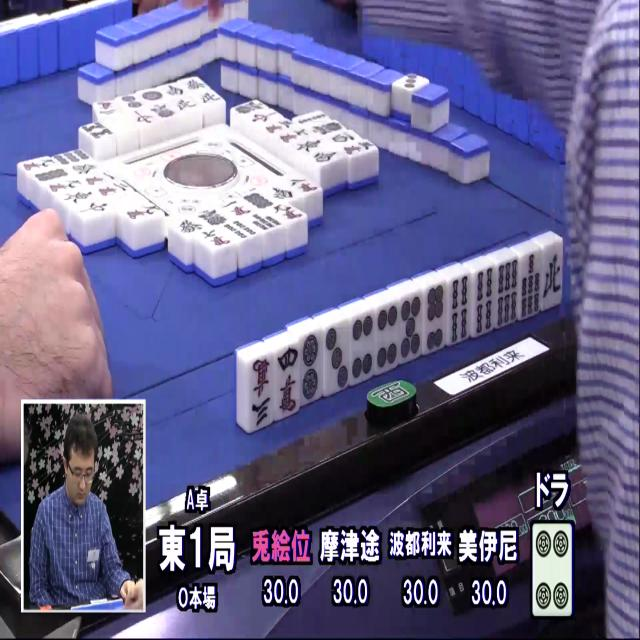m3: (246, 356, 278, 434)
m4: (273, 342, 303, 419)
north: (542, 248, 565, 304)
s4: (445, 275, 474, 347), (471, 266, 499, 338)
s6: (493, 257, 521, 328)
s7: (518, 251, 544, 320)
t2: (298, 332, 327, 406)
t3: (321, 324, 353, 396)
t4: (533, 522, 575, 614), (347, 312, 377, 385), (374, 304, 402, 374)
t5: (398, 292, 426, 363)
t6: (420, 282, 450, 354)
